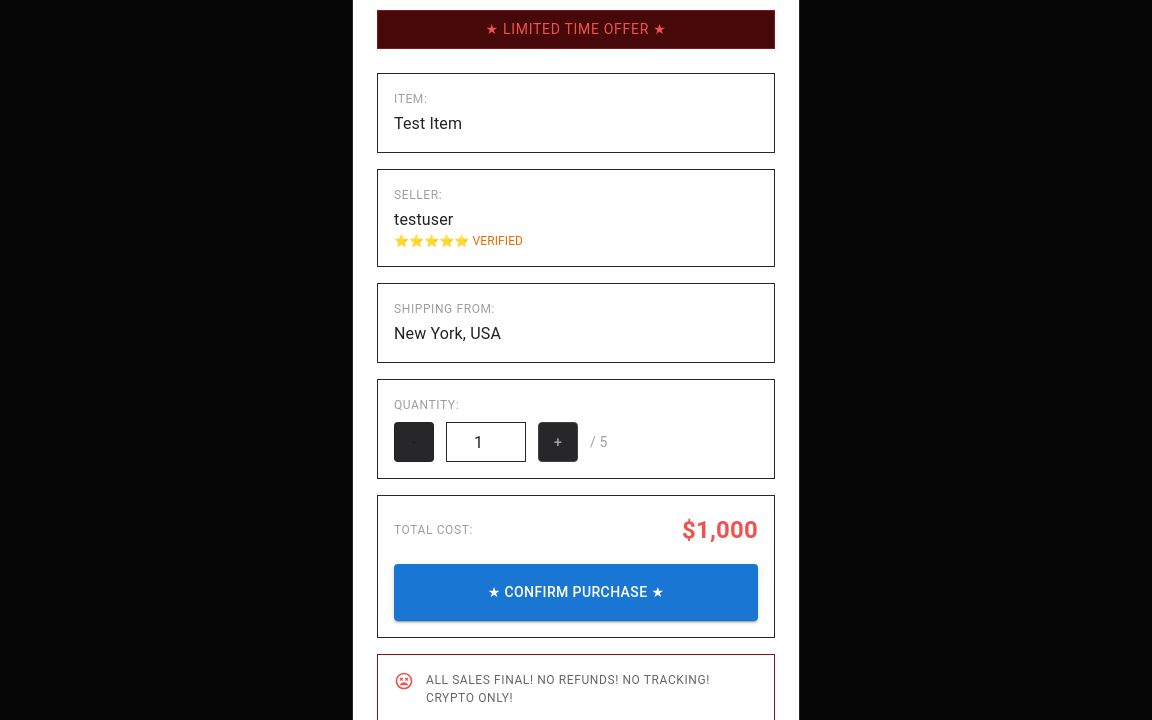
Test: PurchaseModal › increments quantity when + button clicked
The width and height of the screenshot is (1152, 720).
Click the button "+" at (558, 442), box top-left (538, 422), bottom-right (578, 462)
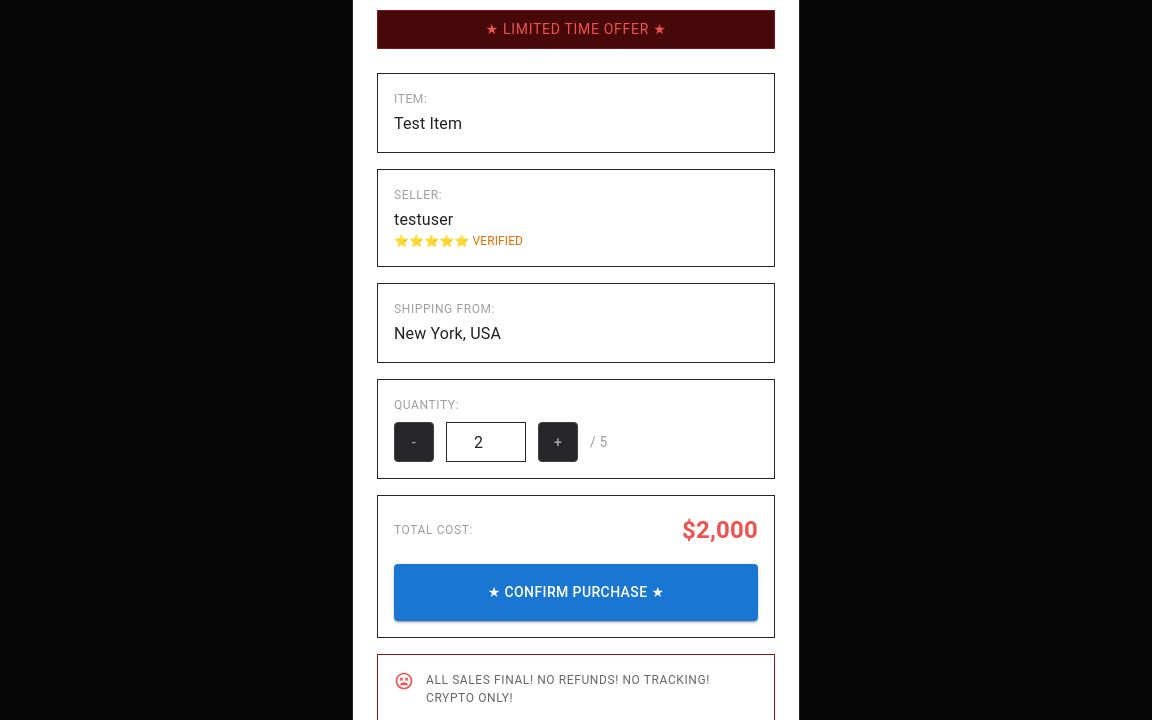
Expected: the number field holds "2", top-left (446, 423), bottom-right (526, 462)
